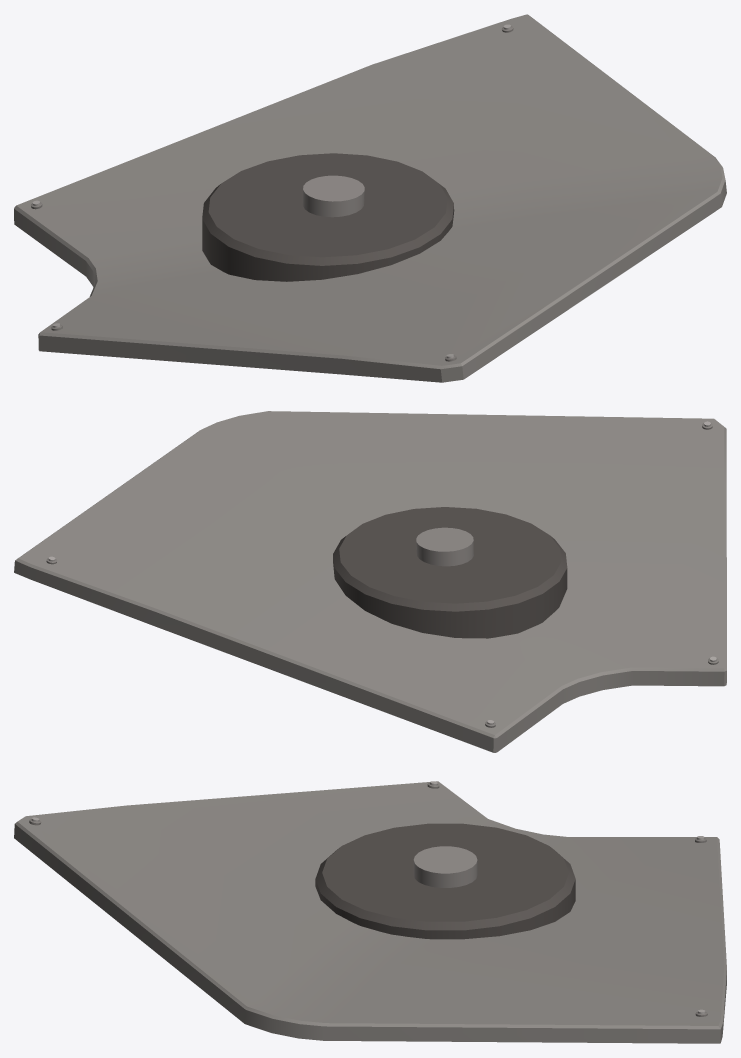
File: PVT_panel.fbx
3 renders of one model, top to bottom at view 1: azimuth 30°, elevation 25°; view 2: azimuth 150°, elevation 25°; view 3: azimuth 270°, elevation 25°, orthographic. The views are drawn at different scales.
Parts seen in each view (by area): view 1: PVT_Panel; view 2: PVT_Panel; view 3: PVT_Panel.
Boxes of the visible parts, box(x1,y1,x2,y2) form: PVT_Panel: box(14, 14, 726, 382); PVT_Panel: box(14, 411, 726, 752); PVT_Panel: box(14, 781, 726, 1043).
Bounding box in the file's own units: 0.8127 × 0.1078 × 0.7765.
